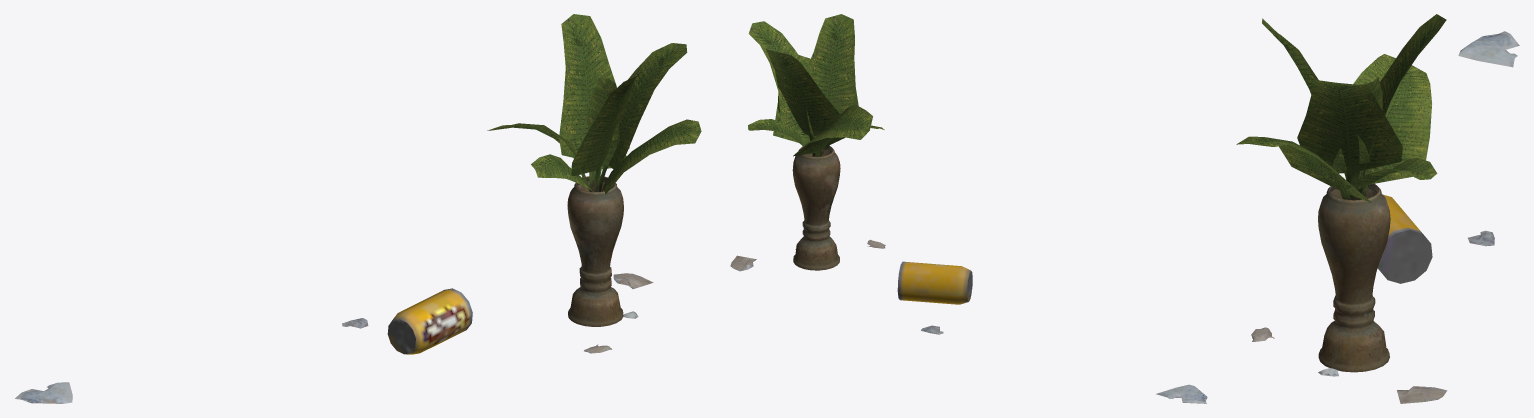
The model's file is sm39_041_windowframeset01a.fbx.
3 views of the same model, side by side, from view 1: azimuth 30°, elevation 25°; view 2: azimuth 150°, elevation 25°; view 3: azimuth 270°, elevation 25° (orthographic). The views are drawn at different scales.
Parts seen in each view (by area): view 1: LOD_1_Group_0_Sub_4__sm10_001_IndoorPlant01A_A_Mat, LOD_1_Group_0_Sub_1__sm32_044_Pot01A_D_Mat, LOD_1_Group_0_Sub_2__sm24_001_VendingMachine01A_A_Mat, LOD_1_Group_0_Sub_3__sm20_001_WastePaper01A_A_Mat; view 2: LOD_1_Group_0_Sub_4__sm10_001_IndoorPlant01A_A_Mat, LOD_1_Group_0_Sub_1__sm32_044_Pot01A_D_Mat, LOD_1_Group_0_Sub_2__sm24_001_VendingMachine01A_A_Mat, LOD_1_Group_0_Sub_3__sm20_001_WastePaper01A_A_Mat; view 3: LOD_1_Group_0_Sub_4__sm10_001_IndoorPlant01A_A_Mat, LOD_1_Group_0_Sub_1__sm32_044_Pot01A_D_Mat, LOD_1_Group_0_Sub_2__sm24_001_VendingMachine01A_A_Mat, LOD_1_Group_0_Sub_3__sm20_001_WastePaper01A_A_Mat.
Boxes of the visible parts, left/top/right/bottom form: LOD_1_Group_0_Sub_4__sm10_001_IndoorPlant01A_A_Mat: left=487, top=14, right=701, bottom=194; LOD_1_Group_0_Sub_1__sm32_044_Pot01A_D_Mat: left=567, top=176, right=623, bottom=326; LOD_1_Group_0_Sub_2__sm24_001_VendingMachine01A_A_Mat: left=387, top=288, right=472, bottom=354; LOD_1_Group_0_Sub_3__sm20_001_WastePaper01A_A_Mat: left=15, top=273, right=653, bottom=403; LOD_1_Group_0_Sub_4__sm10_001_IndoorPlant01A_A_Mat: left=748, top=14, right=884, bottom=156; LOD_1_Group_0_Sub_1__sm32_044_Pot01A_D_Mat: left=792, top=146, right=840, bottom=270; LOD_1_Group_0_Sub_2__sm24_001_VendingMachine01A_A_Mat: left=897, top=261, right=972, bottom=304; LOD_1_Group_0_Sub_3__sm20_001_WastePaper01A_A_Mat: left=730, top=239, right=1207, bottom=403; LOD_1_Group_0_Sub_4__sm10_001_IndoorPlant01A_A_Mat: left=1236, top=14, right=1446, bottom=202; LOD_1_Group_0_Sub_1__sm32_044_Pot01A_D_Mat: left=1318, top=183, right=1390, bottom=372; LOD_1_Group_0_Sub_2__sm24_001_VendingMachine01A_A_Mat: left=1377, top=194, right=1432, bottom=283; LOD_1_Group_0_Sub_3__sm20_001_WastePaper01A_A_Mat: left=1251, top=31, right=1519, bottom=403.
Bounding box in the file's own units: 1.24 × 0.5303 × 0.3926.
